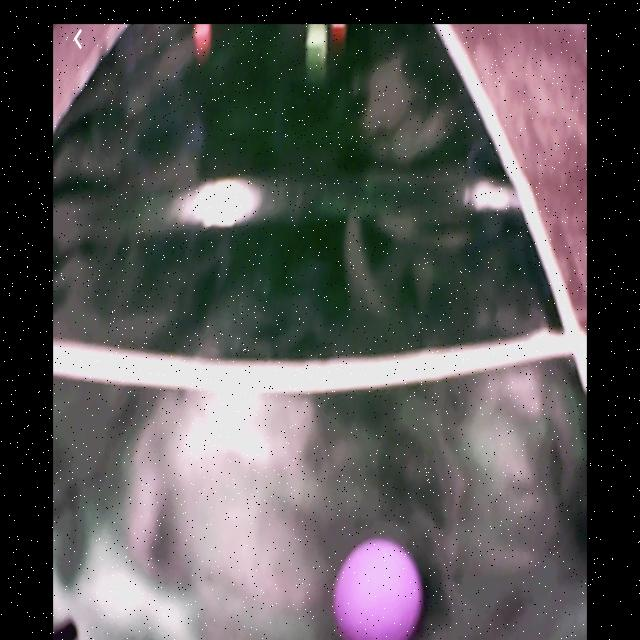ball: (335, 540, 423, 640)
